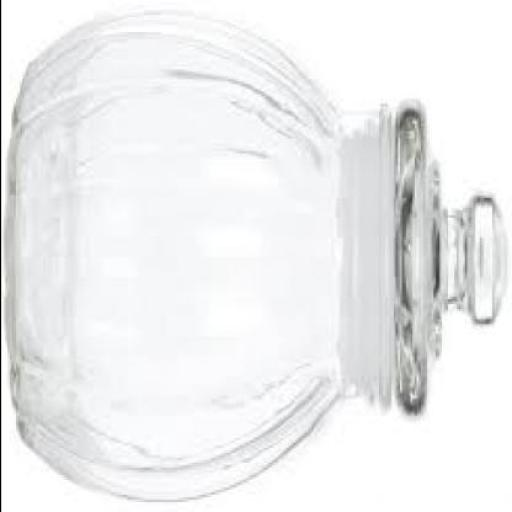glass: (6, 10, 508, 500)
